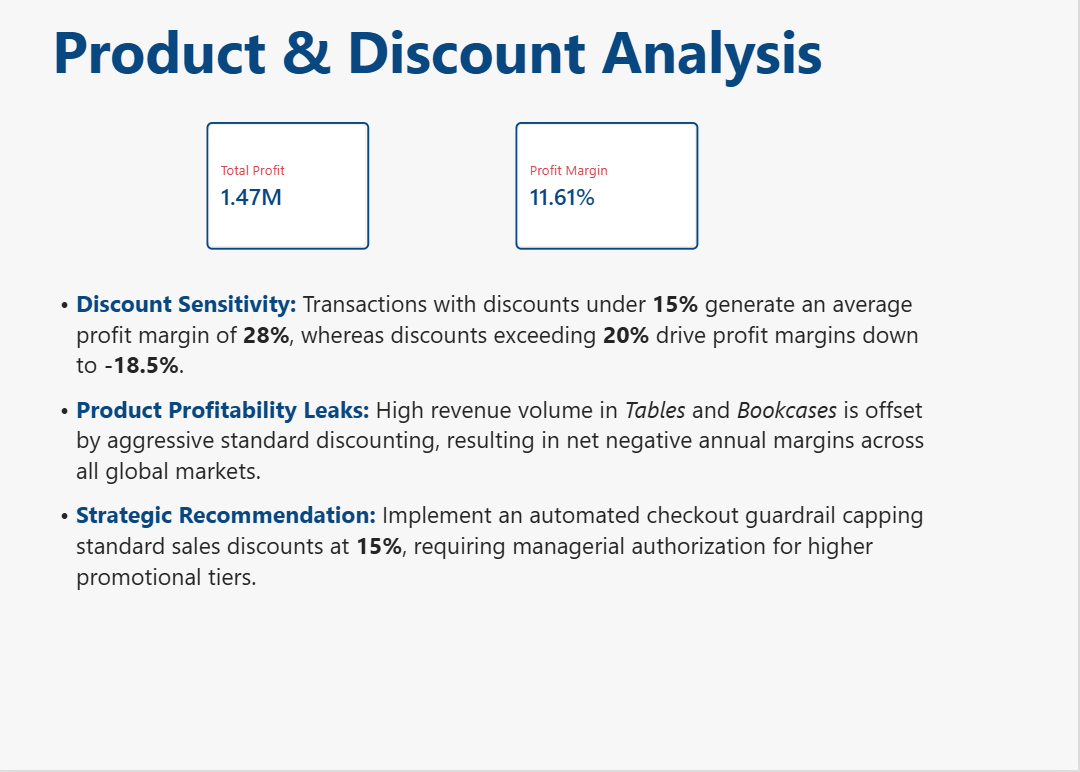

The page's visual inventory and layout, read from the dashboard file:
{"tool":"powerbi","page":{"name":"Product & Discount Analysis","canvas":[1500,1080],"ordinal":1},"visuals":[{"type":"cardVisual","fields":{"Data":["gold_category_performance.Total Profit"]},"box":[290,180,225.7,177.1],"z":0},{"type":"cardVisual","fields":{"Data":["gold_category_performance.Profit Margin"]},"box":[718,180,254.3,177.1],"z":1000},{"type":"textbox","box":[75.3,24.4,1375.3,177.2],"z":2000},{"type":"textbox","box":[60,408,1232,532],"z":3000}]}

Visuals, with their boxes in screenshot pixels (x1, y1, x2, y2), scaled from the page's 1500x1080 canvas onto the 1080x772 screenshot:
cardVisual - gold_category_performance.Total Profit: box=[209, 129, 371, 255]
cardVisual - gold_category_performance.Profit Margin: box=[517, 129, 700, 255]
textbox: box=[54, 17, 1044, 144]
textbox: box=[43, 292, 930, 672]
